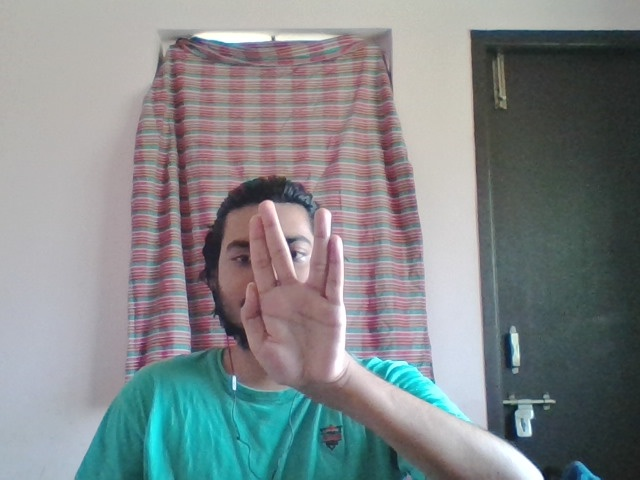LiveLong: (241, 200, 347, 395)
